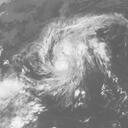cyclone: (28, 20, 92, 95)
